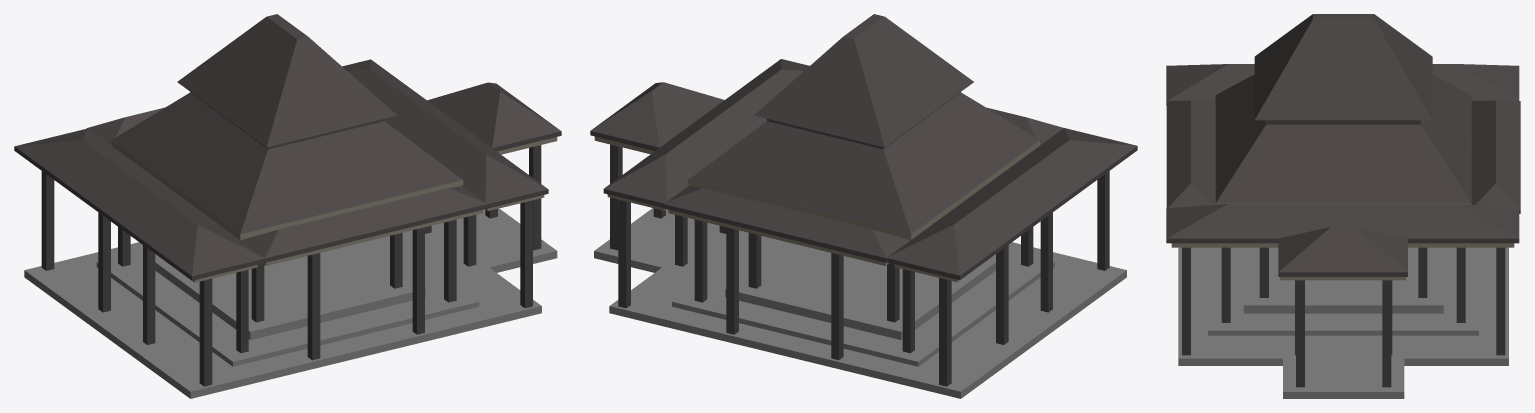
The model's file is B_Kencana.fbx.
3 renders of one model, left to right at view 1: azimuth 30°, elevation 25°; view 2: azimuth 150°, elevation 25°; view 3: azimuth 270°, elevation 25°, orthographic.
Parts seen in each view (by area): view 1: B_Kencana; view 2: B_Kencana; view 3: B_Kencana.
Part boxes in pixels (left/top/right/bottom): B_Kencana: left=14, top=14, right=561, bottom=398; B_Kencana: left=590, top=14, right=1137, bottom=398; B_Kencana: left=1166, top=14, right=1520, bottom=398.
Size of the model in its own units: 552 by 331 by 400.
Materials: 1 (1 with a texture image).
